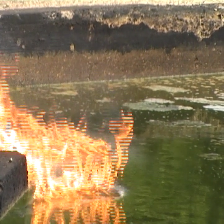fire_h: (1, 66, 134, 222)
